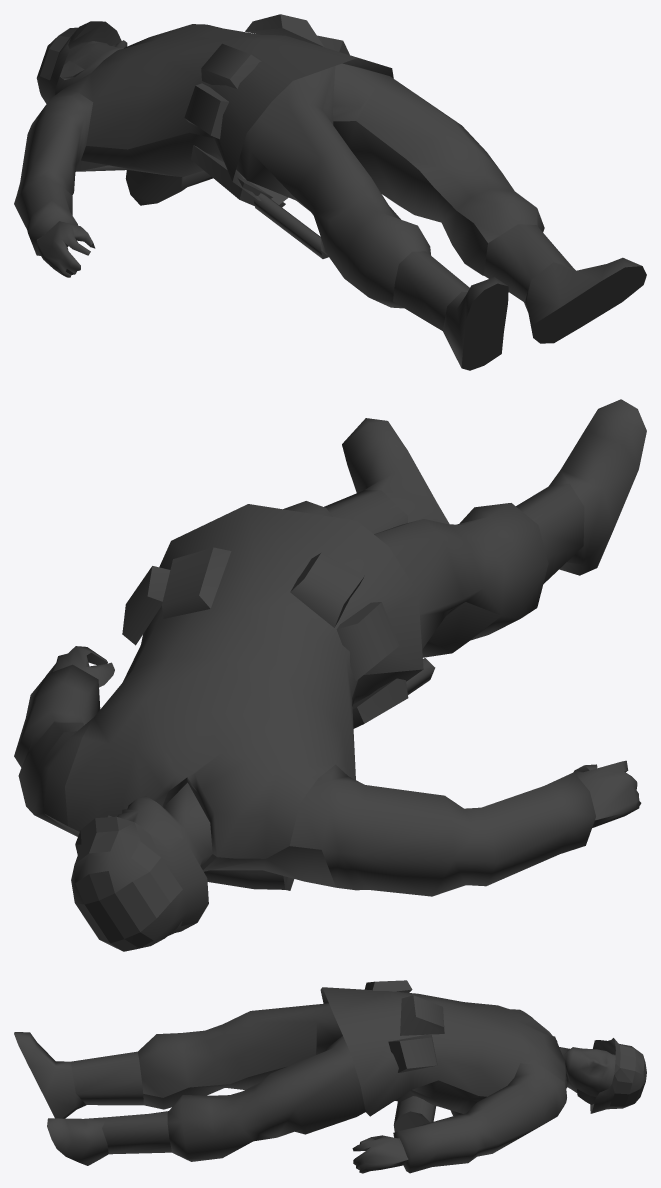
Rendered from de_ferito.glb.
3 views of the same model, one above another, from view 1: azimuth 30°, elevation 25°; view 2: azimuth 150°, elevation 25°; view 3: azimuth 270°, elevation 25° (orthographic). The views are drawn at different scales.
Parts seen in each view (by area): view 1: skin.001_skin.005_1; view 2: skin.001_skin.005_1; view 3: skin.001_skin.005_1.
Part boxes in pixels (bbox=[...]): skin.001_skin.005_1: bbox=[14, 14, 646, 370]; skin.001_skin.005_1: bbox=[14, 399, 646, 951]; skin.001_skin.005_1: bbox=[14, 980, 646, 1173].
Size of the model in its own units: 0.3204 by 0.1443 by 0.5408.
1 material, 1 textured.
